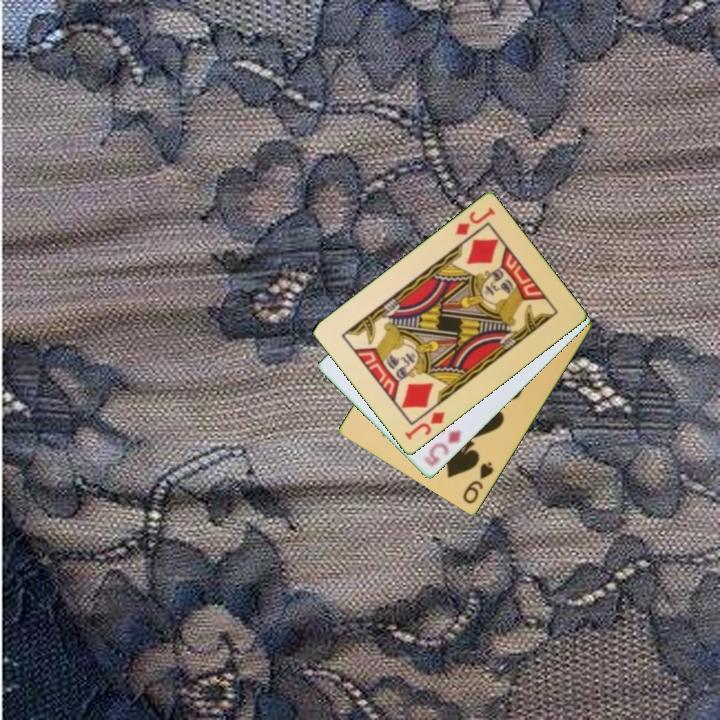5d: (420, 427, 464, 470)
9s: (459, 458, 497, 507)
Jd: (401, 408, 448, 443), (451, 204, 498, 239)
